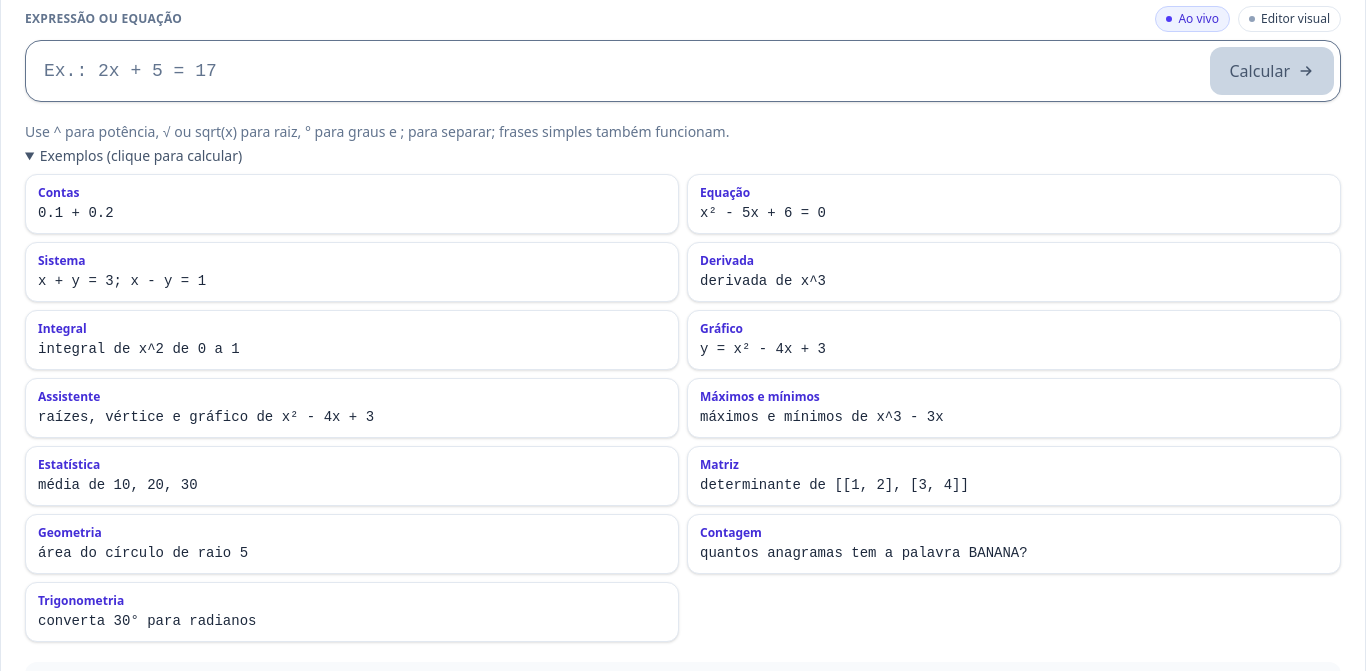
Test: Calculator › shows a very long result as wrapping text instead of a formula
Type "2^10000" into the field labelled "Expressão ou equação".
click(617, 71); type("2^10000")  # box top-left (32, 47), bottom-right (1202, 95)
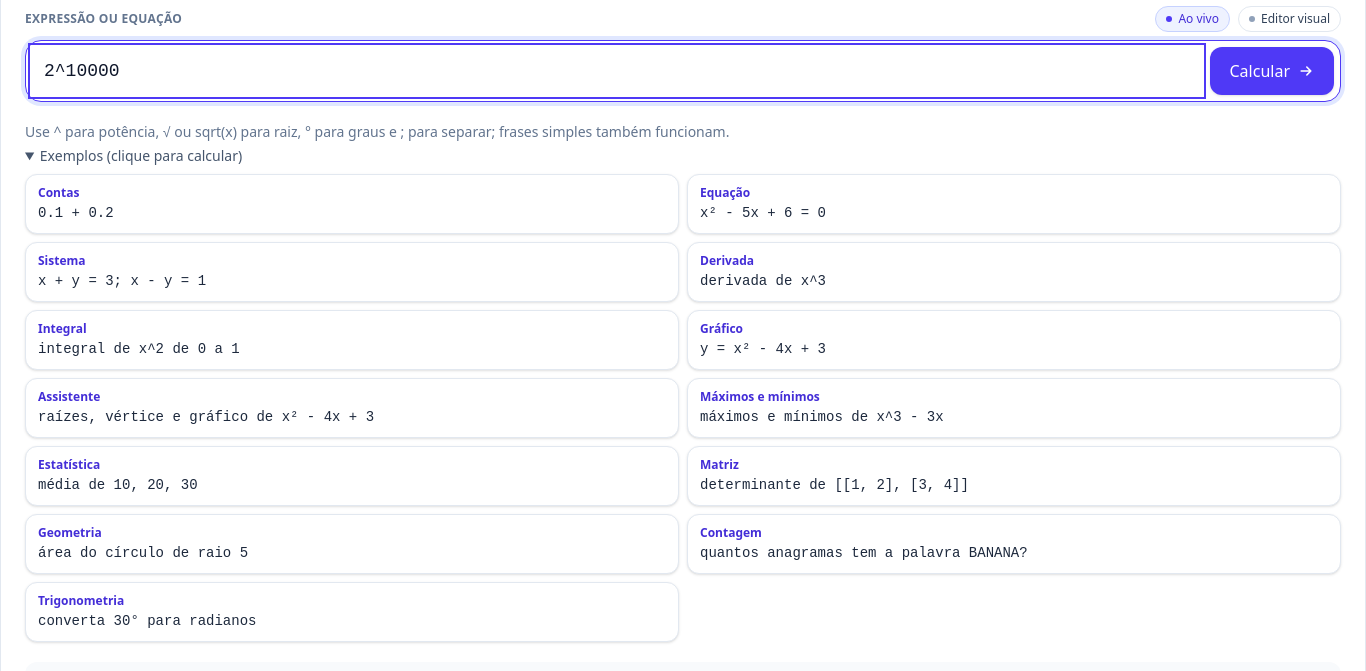
Click the button "Calcular".
click(1272, 71)  # box top-left (1210, 47), bottom-right (1334, 95)
(page scrolled)
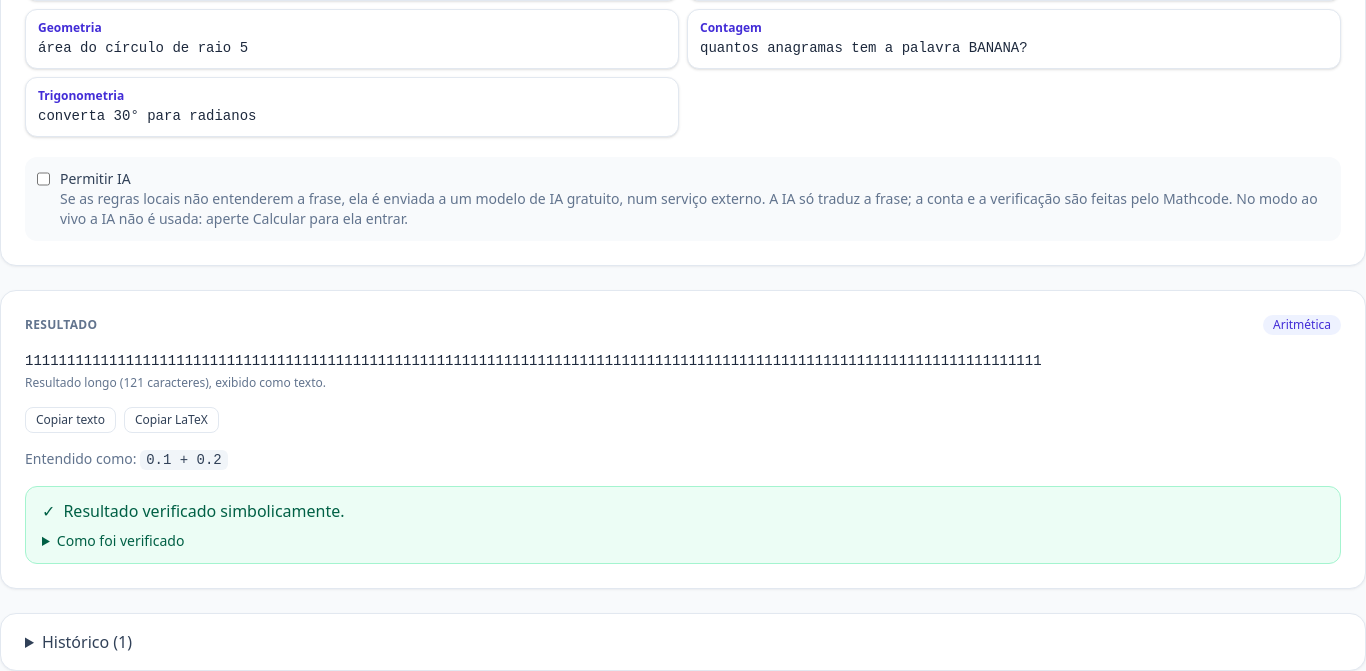
Result: the text "Resultado longo (121 caracteres), exibido como texto." is shown at top-left (25, 374), bottom-right (326, 391)
